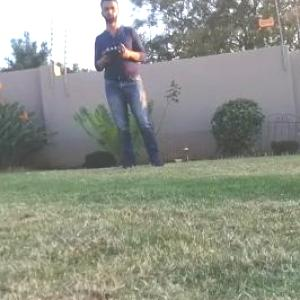follow: (90, 0, 172, 174)
